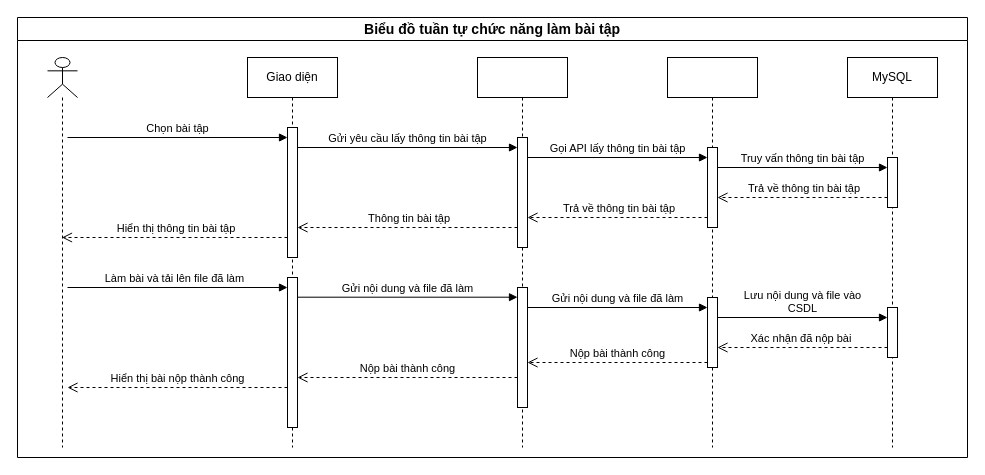
This 985x475 diagram has some shape labels left out. The centre of each missing label's shape, as x and y in pixels:
Web API: the point at 712,252
Web Client: the point at 522,252
